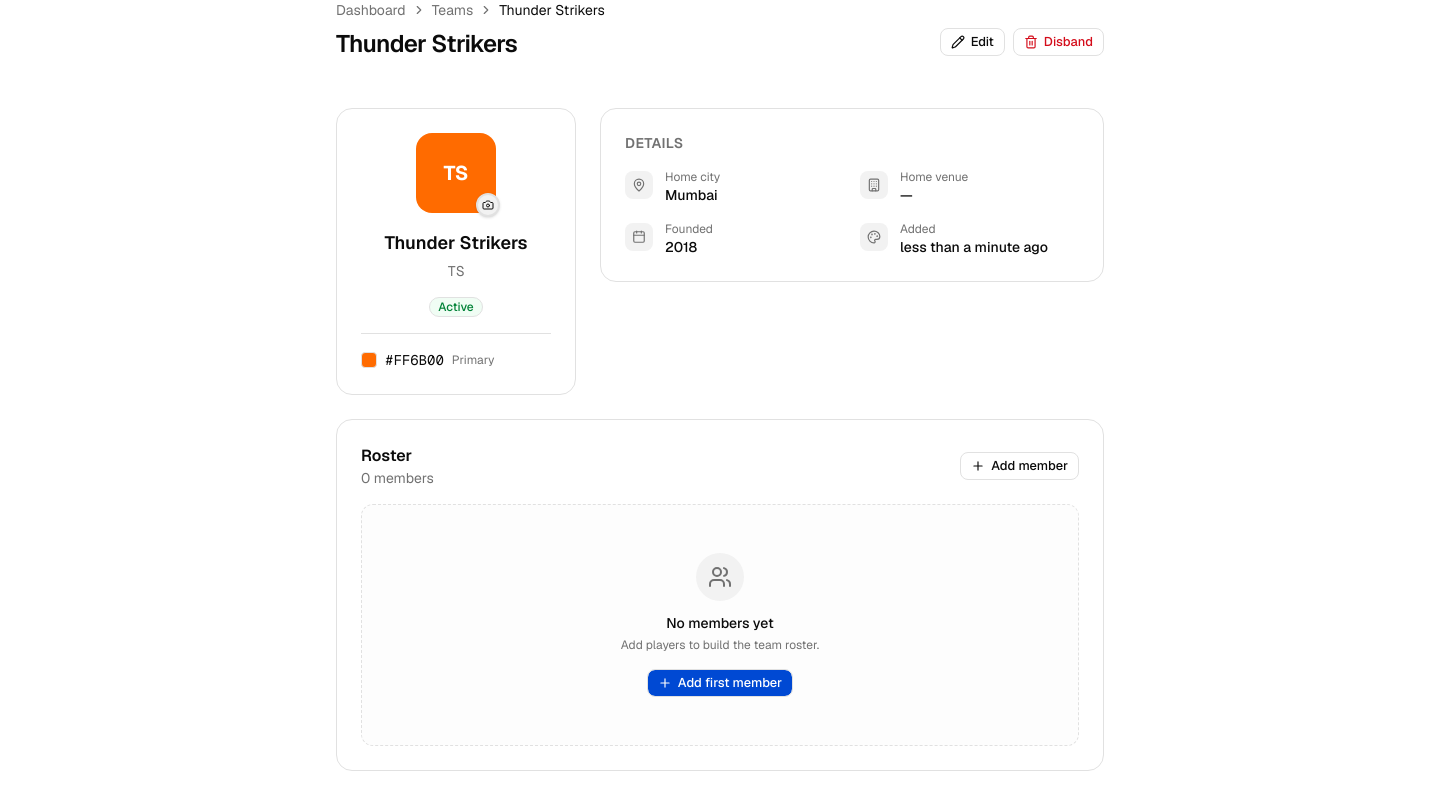
Test: TeamProfilePage — C-2: disband confirmation › shows disband confirm dialog when Disband button is clicked
Click the button "Disband".
click(1058, 42)  # box [1013,28,1104,56]
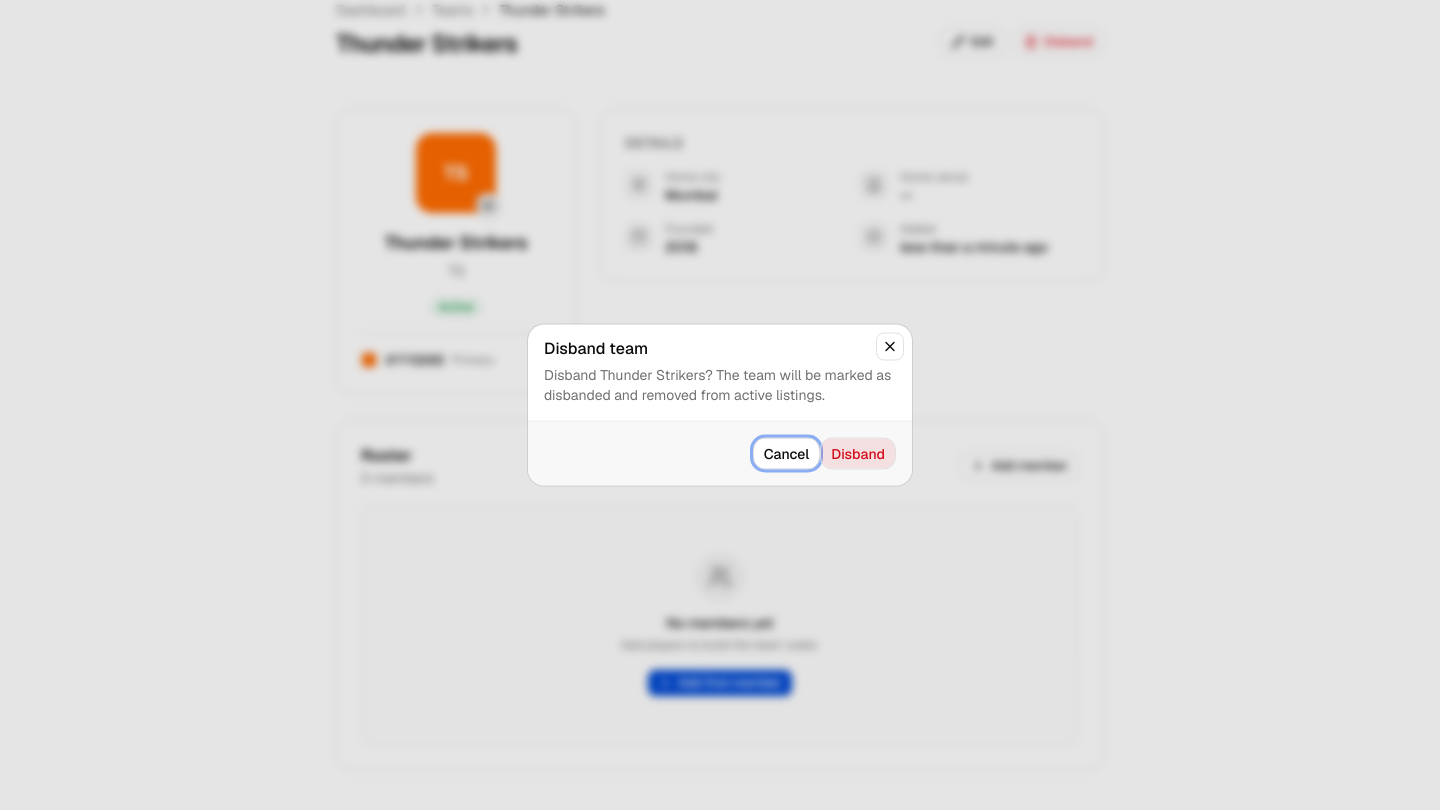
Result: the dialog is shown at [528,324,912,486]
Result: the heading "Disband team" is shown at [544,338,648,358]
Result: the text "Thunder Strikers" is shown at [544,366,891,404]
